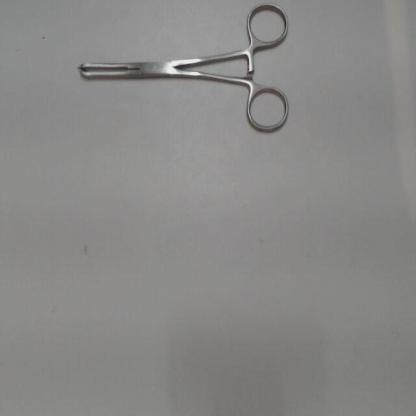Allis Tissue Forceps: (66, 1, 294, 147)
